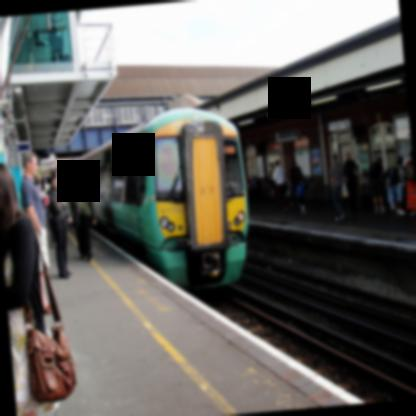backpack: (388, 166, 399, 186)
handbag: (15, 213, 77, 403), (68, 193, 83, 229)
